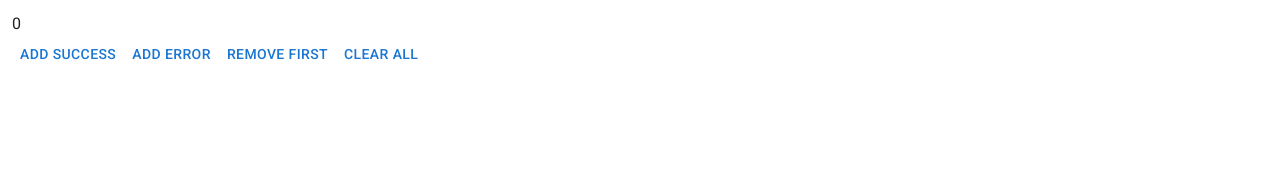
Test: NotificationProvider › handles close button click
Click the button "Add Success": click(68, 54) [12, 36, 124, 72]
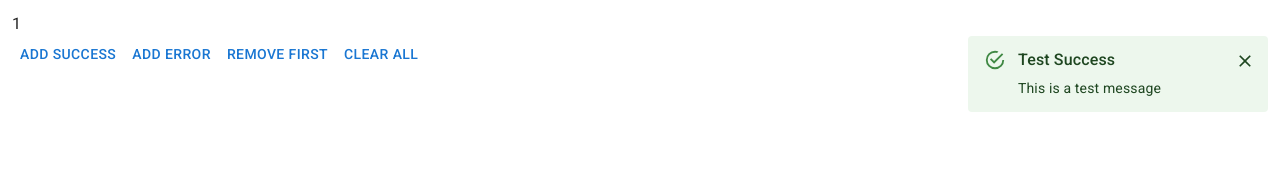
Expected: the text "Test Success" is shown, [1018, 50, 1115, 69]
# Click close button
Click the button named "close": click(1245, 61) [1230, 46, 1260, 76]
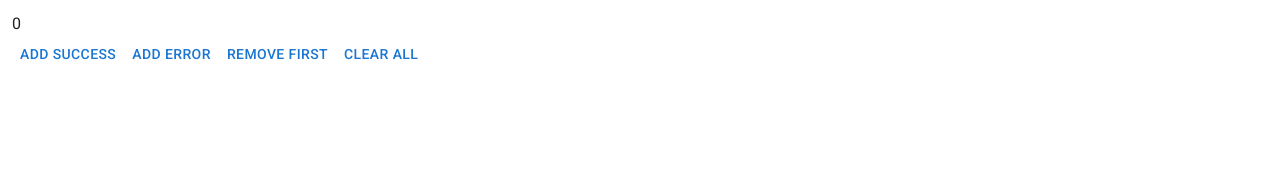
Expected: the text "Test Success" is gone
